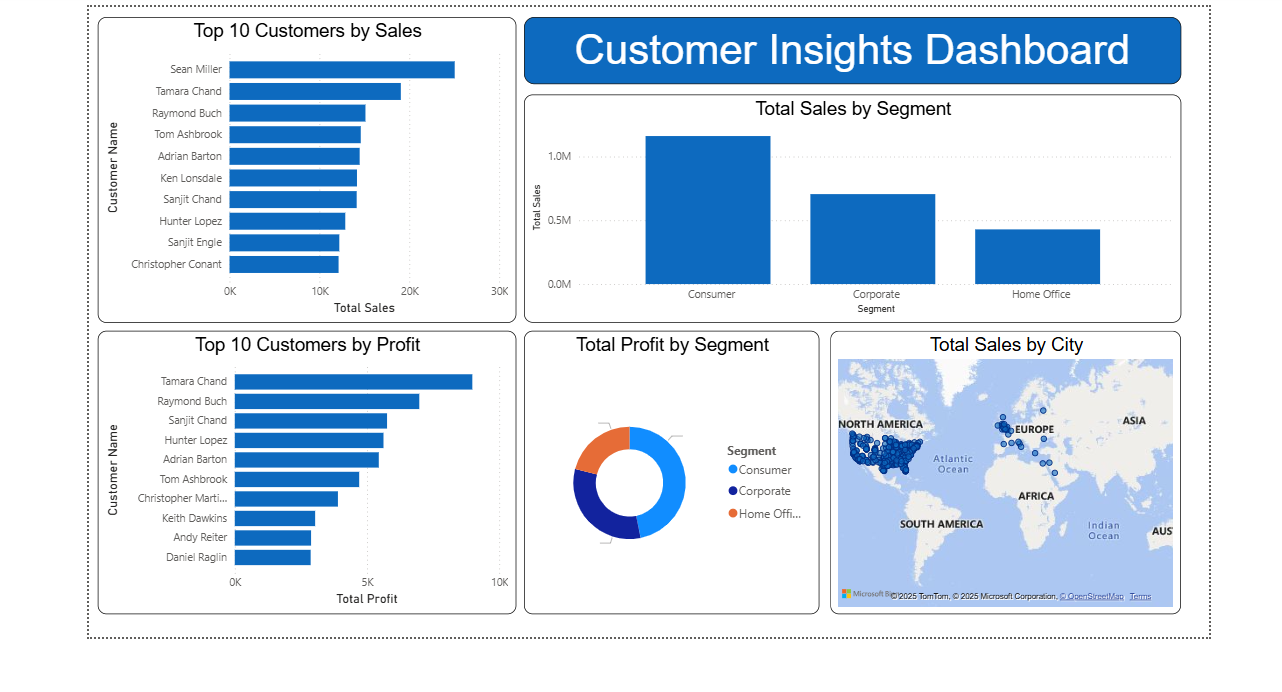

The dashboard page shown, as its layout file describes it:
{"tool":"powerbi","page":{"name":"Page 3","canvas":[1280,720],"ordinal":2},"visuals":[{"type":"textbox","title":"Sales Data Profile & Insights","box":[497,10.8,750.9,77],"z":0},{"type":"barChart","title":"Top 10 Customers by Sales","fields":{"Category":["Sales.Customer Name"],"Y":["All Measures.Total Sales"]},"box":[9.5,10.8,478.1,349.8],"z":1000},{"type":"barChart","title":"Top 10 Customers by Profit","fields":{"Category":["Sales.Customer Name"],"Y":["All Measures.Total Profit"]},"box":[9.5,370,478.1,324.1],"z":2000},{"type":"clusteredColumnChart","fields":{"Category":["Sales.Segment"],"Y":["All Measures.Total Sales"]},"box":[497,99.9,750.9,260.6],"z":3000},{"type":"donutChart","fields":{"Category":["Sales.Segment"],"Y":["All Measures.Total Profit"]},"box":[497,370,337.6,324.1],"z":4000},{"type":"map","fields":{"Category":["Sales.City"],"Y":["All Measures.Total Sales"]},"box":[846.8,370,401.1,324.1],"z":5000}]}

Visuals, with their boxes on the page's 1280x720 design canvas (x1, y1, x2, y2). These are canvas units, not pixel positions in the 1282x692 screenshot, which may show the page scaled, cropped or inside an application window:
"Sales Data Profile & Insights" textbox: region(497, 11, 1248, 88)
"Top 10 Customers by Sales" barChart: region(10, 11, 488, 361)
"Top 10 Customers by Profit" barChart: region(10, 370, 488, 694)
clusteredColumnChart - Sales.Segment x All Measures.Total Sales: region(497, 100, 1248, 360)
donutChart - Sales.Segment x All Measures.Total Profit: region(497, 370, 835, 694)
map - Sales.City x All Measures.Total Sales: region(847, 370, 1248, 694)
